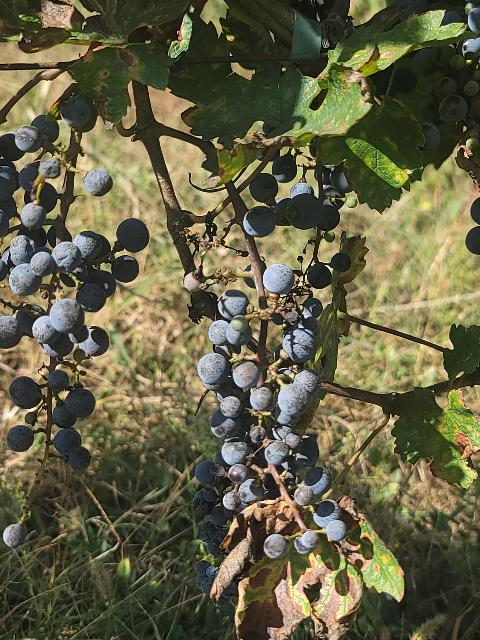grapes: (0, 159, 149, 470), (201, 264, 349, 554)
